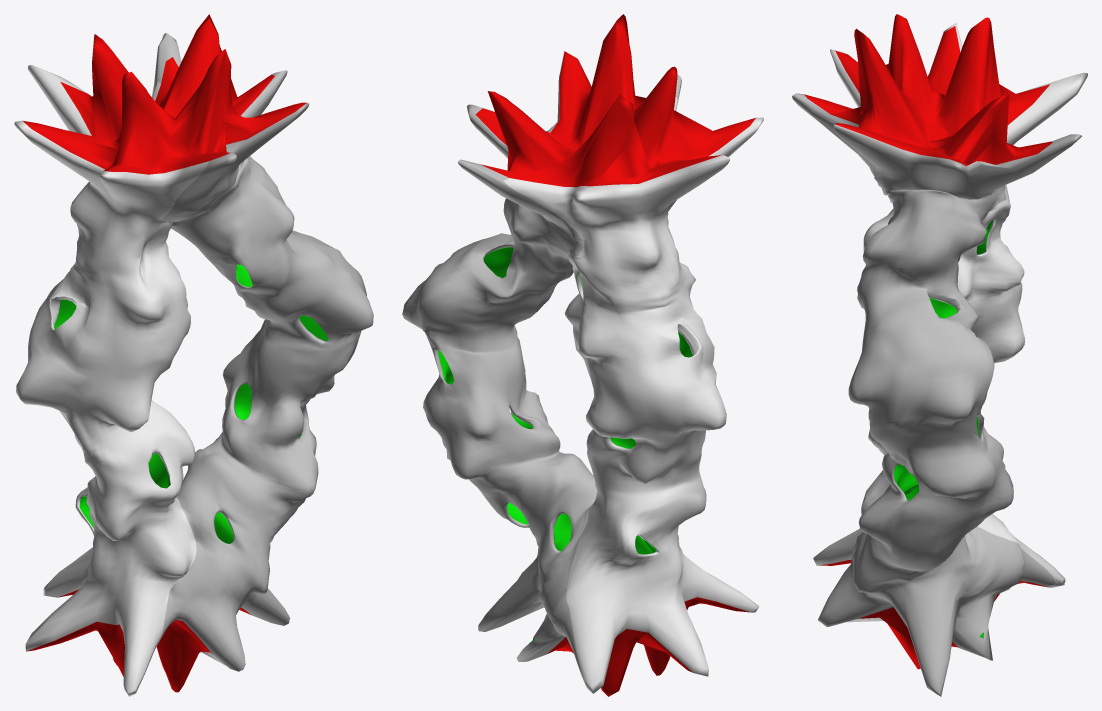
Rendered from Column_04.fbx.
3 views of the same model, side by side, from view 1: azimuth 30°, elevation 25°; view 2: azimuth 150°, elevation 25°; view 3: azimuth 270°, elevation 25° (orthographic). The views are drawn at different scales.
Visible parts, largest first — view 1: pCylinder3; view 2: pCylinder3; view 3: pCylinder3.
Boxes of the visible parts, <box> form: pCylinder3: <box>14,14,373,696</box>; pCylinder3: <box>402,14,763,696</box>; pCylinder3: <box>792,14,1087,696</box>.
Size of the model in its own units: 24.81 by 19.46 by 47.04.
